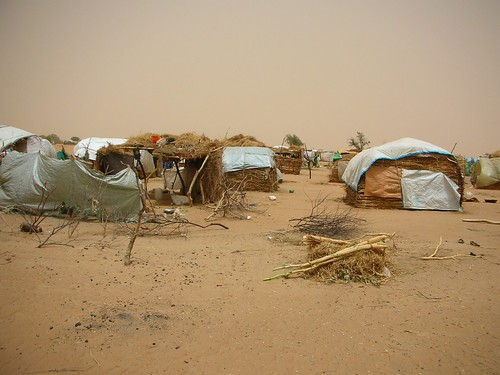sky: (1, 1, 500, 138)
tent: (5, 137, 214, 225), (332, 138, 466, 214), (215, 134, 277, 195)
